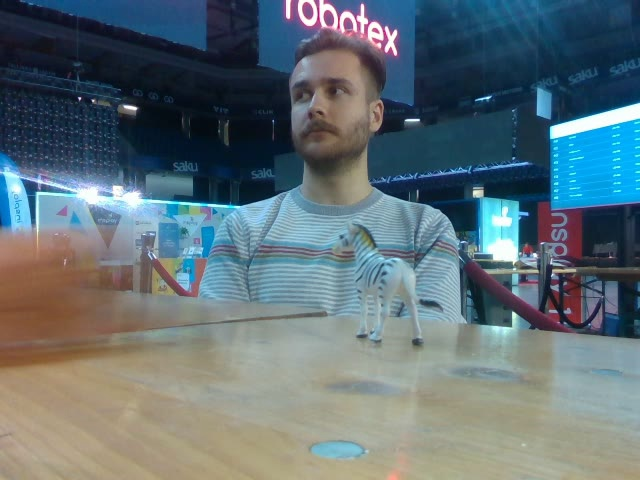toy: (332, 223, 423, 345)
